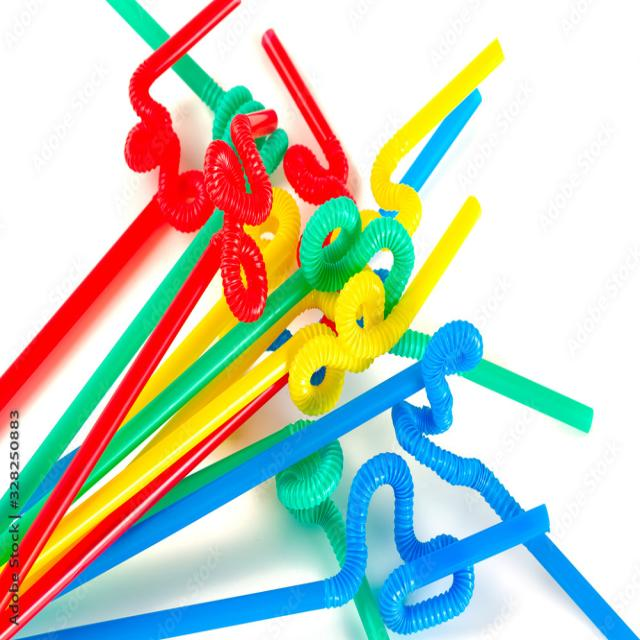plastic: (90, 443, 570, 640)
